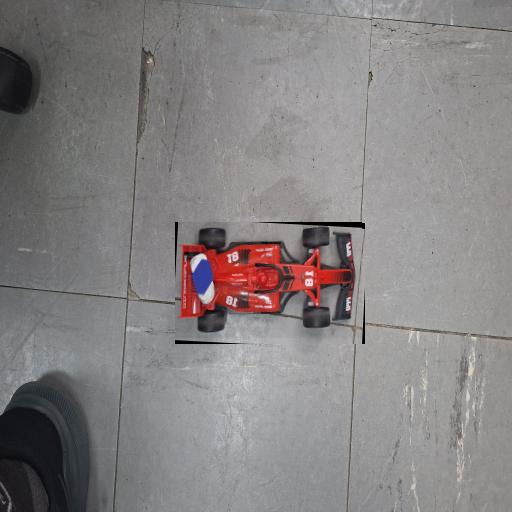carro: (175, 223, 362, 338)
